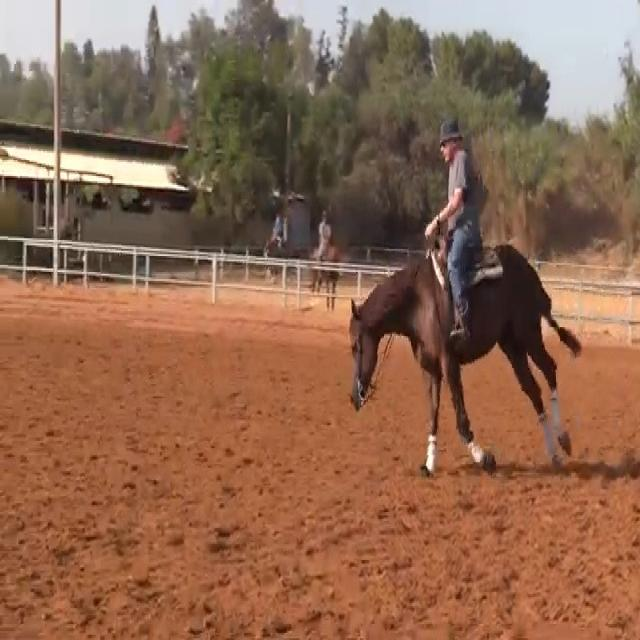horse: (345, 235, 582, 478)
